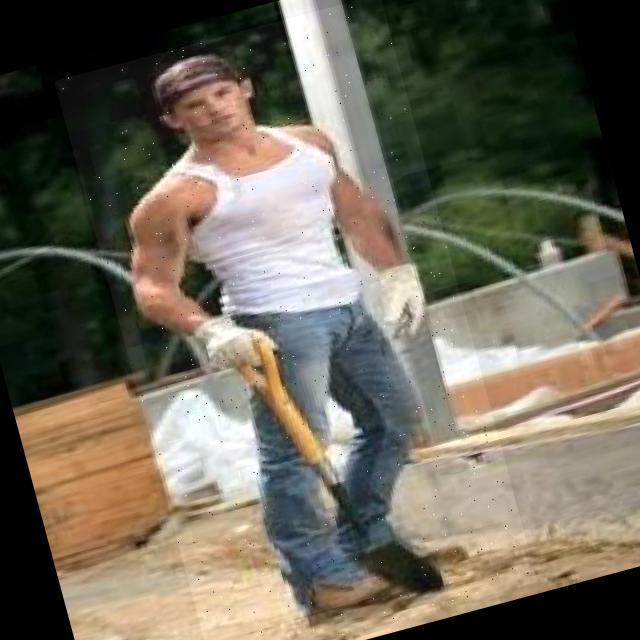Gloves: (185, 304, 283, 381), (363, 265, 443, 343)
Person: (108, 35, 472, 640)
Safety Boot: (288, 550, 393, 622)
no-helmet: (138, 46, 244, 109)
no-vest: (154, 124, 371, 320)
